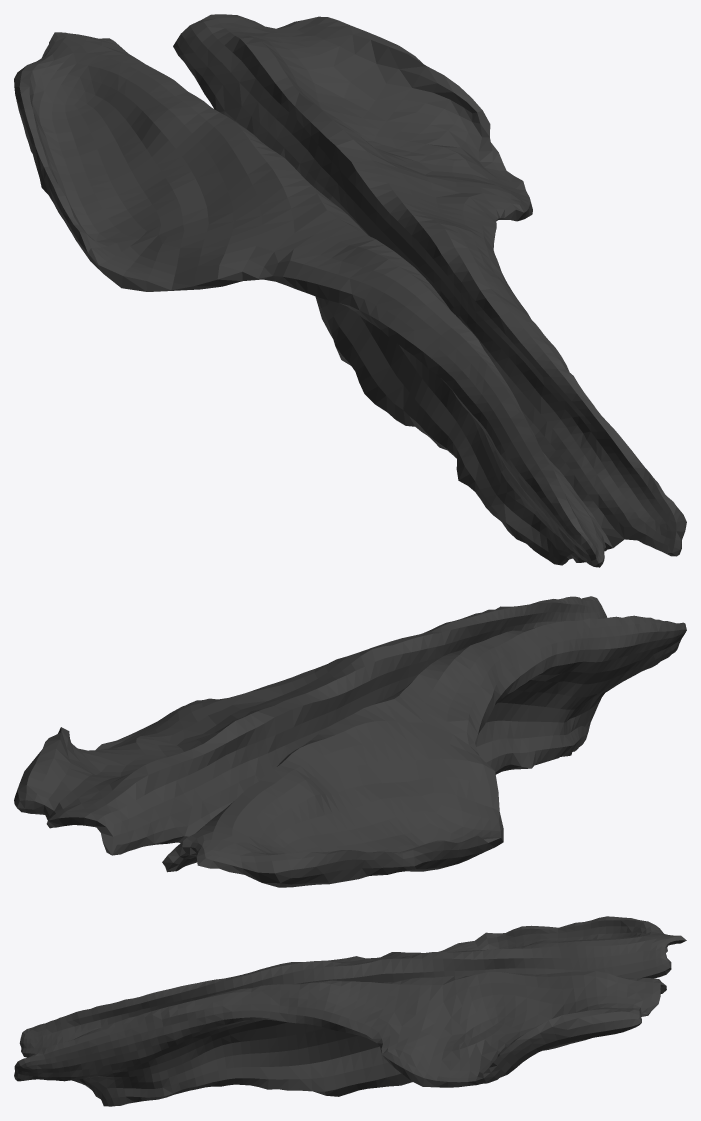
File: Vomer.glb
The picture shows the model from 3 angles, top to bottom: view 1: azimuth 30°, elevation 25°; view 2: azimuth 150°, elevation 25°; view 3: azimuth 270°, elevation 25°; orthographic projection. The views are drawn at different scales.
Parts seen in each view (by area): view 1: Vomer; view 2: Vomer; view 3: Vomer.
Boxes of the visible parts, x1,y1,x2,y2 form: Vomer: (14, 14, 686, 567); Vomer: (14, 596, 686, 887); Vomer: (14, 916, 686, 1106).
Size of the model in its own units: 152 by 80.14 by 326.
Materials: 1 (1 with a texture image).
